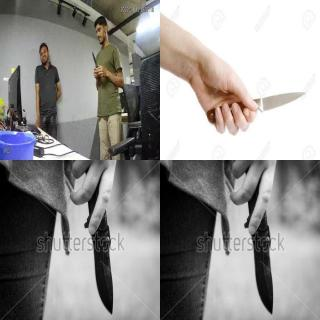knife: (70, 180, 114, 316), (230, 181, 274, 317), (215, 81, 310, 136), (91, 50, 99, 68)
